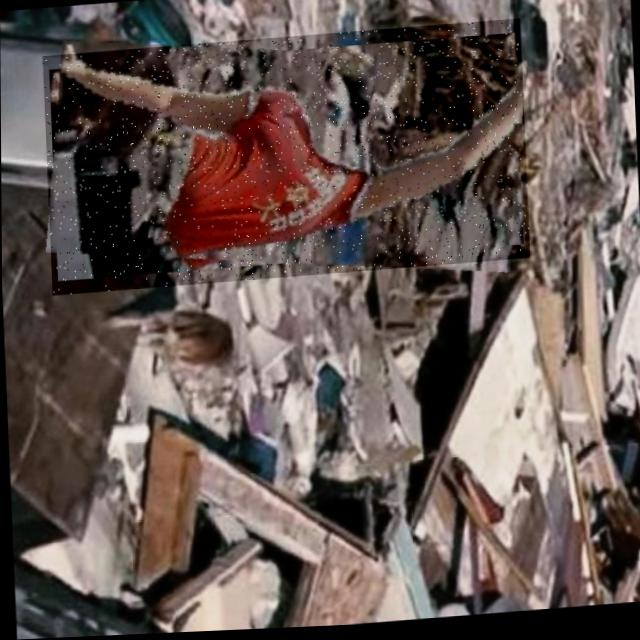Person in Rubble: (41, 22, 528, 296)
